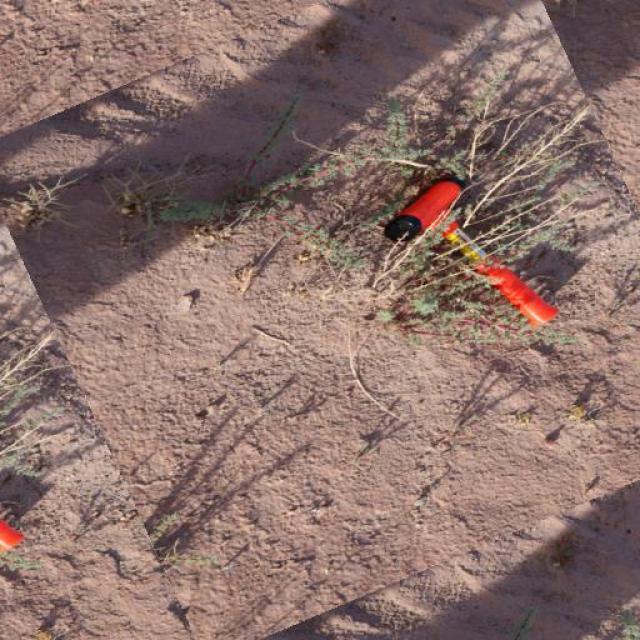mallet: (382, 175, 558, 327)
